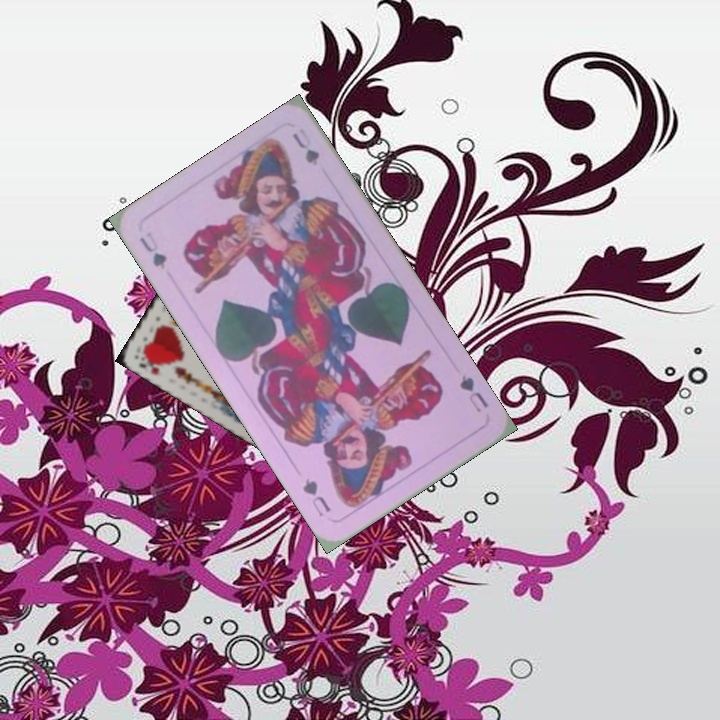GU: (455, 371, 491, 416), (135, 227, 170, 272)
HK: (135, 349, 166, 378)
